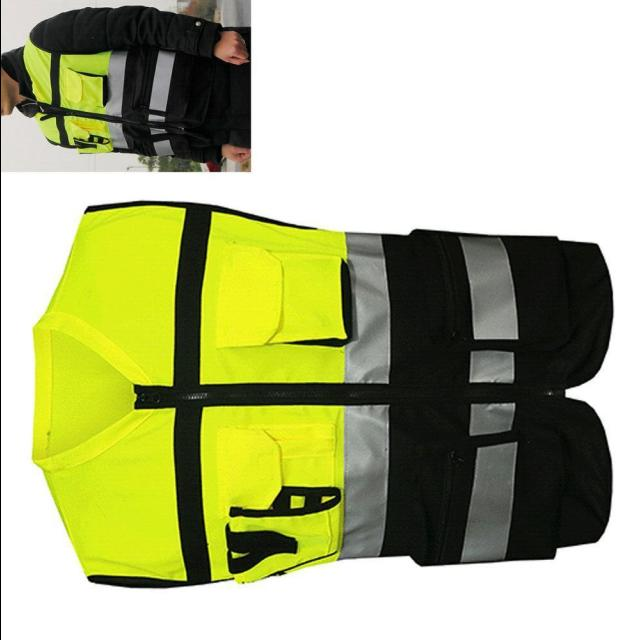jacket: (21, 220, 620, 597)
